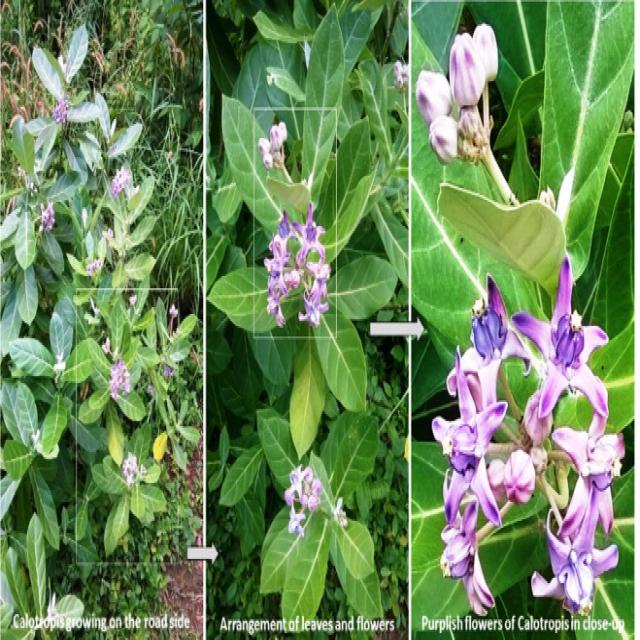Poisonous-Calatropis: (0, 24, 168, 590), (431, 258, 631, 612), (214, 356, 408, 614), (220, 110, 394, 390), (416, 19, 528, 235)
